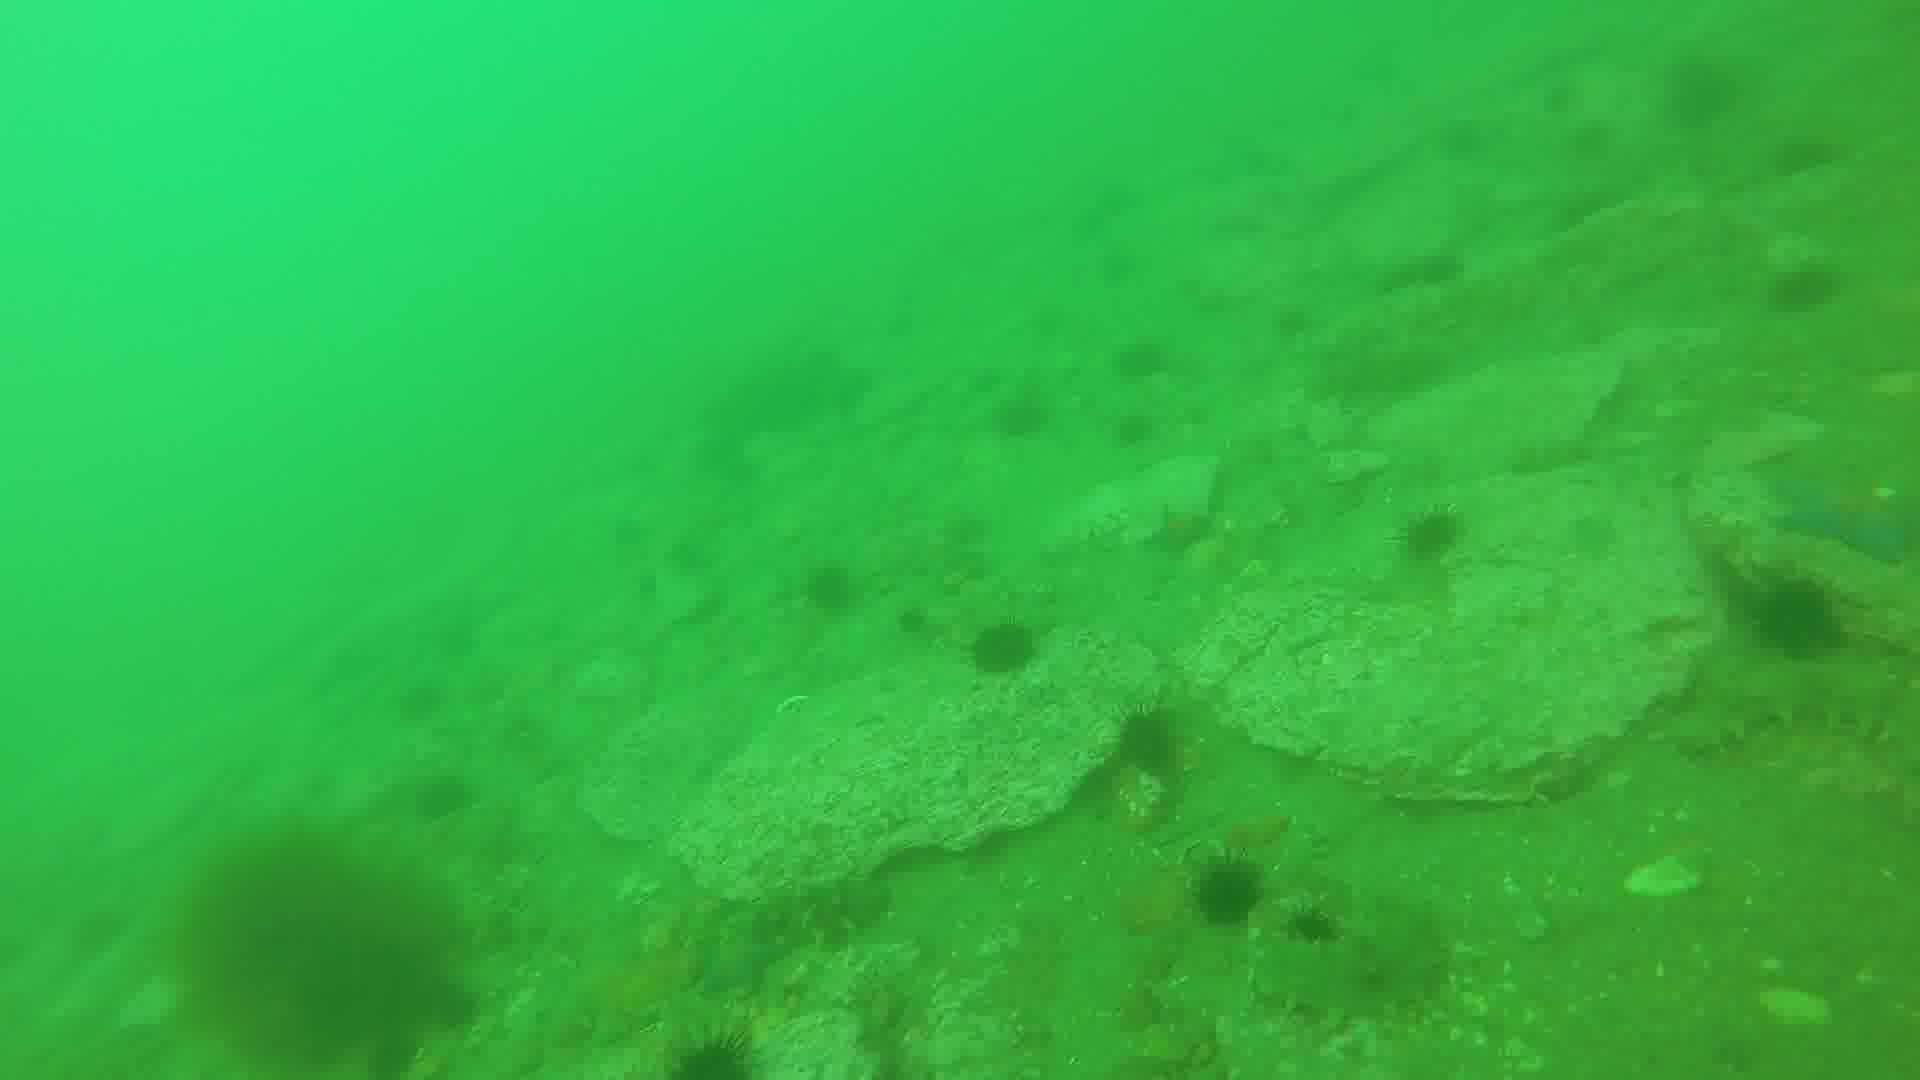echinus: (1758, 575, 1845, 659), (1108, 707, 1182, 778), (1195, 855, 1262, 928), (669, 1031, 764, 1080), (968, 626, 1046, 678), (1395, 508, 1466, 562), (1770, 272, 1837, 316), (810, 559, 858, 609), (1120, 344, 1174, 386), (1419, 255, 1468, 295), (1371, 265, 1419, 305), (1004, 398, 1052, 436), (422, 771, 465, 811), (1114, 411, 1156, 444)
holothurian: (1669, 654, 1920, 762), (1247, 905, 1437, 1022)
starfish: (1774, 480, 1920, 570)
